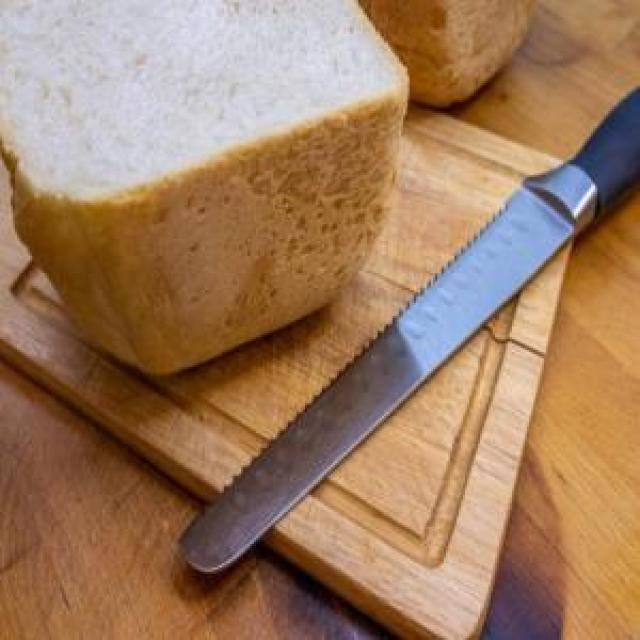knife: (175, 79, 639, 576)
